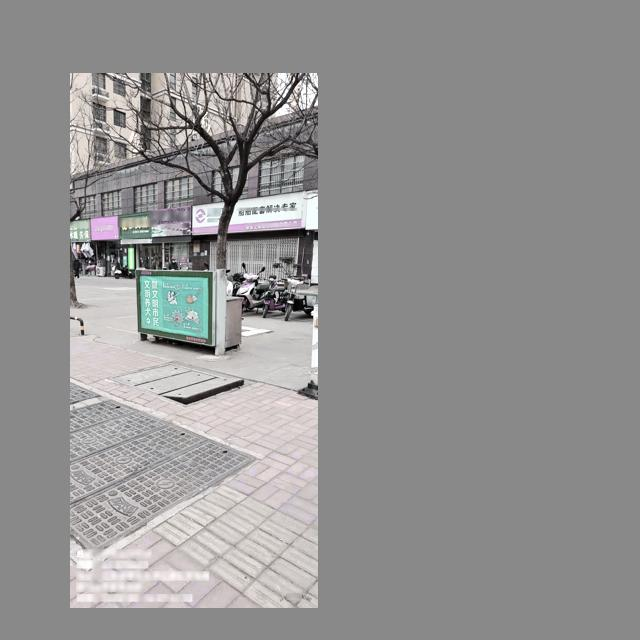uncovered: (107, 362, 247, 405)
